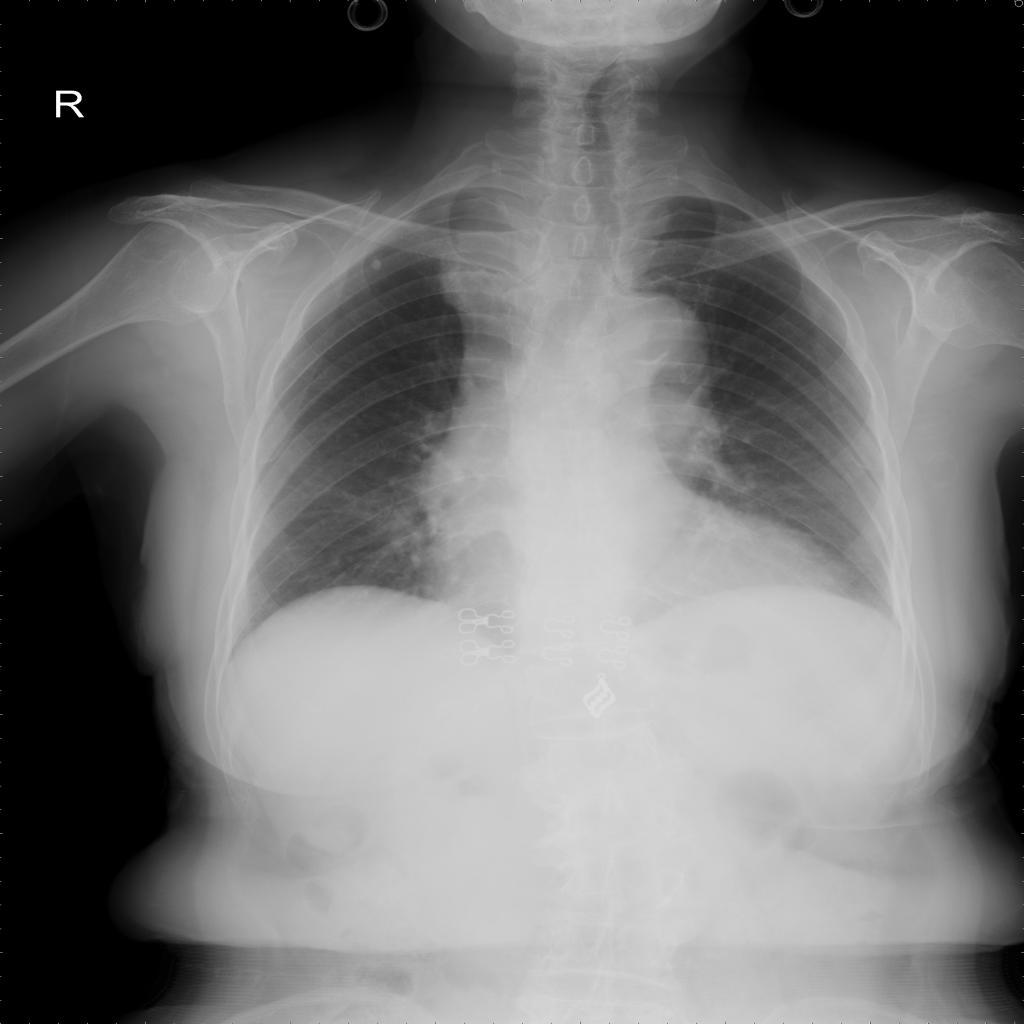Nodule: (369, 259, 384, 272)
